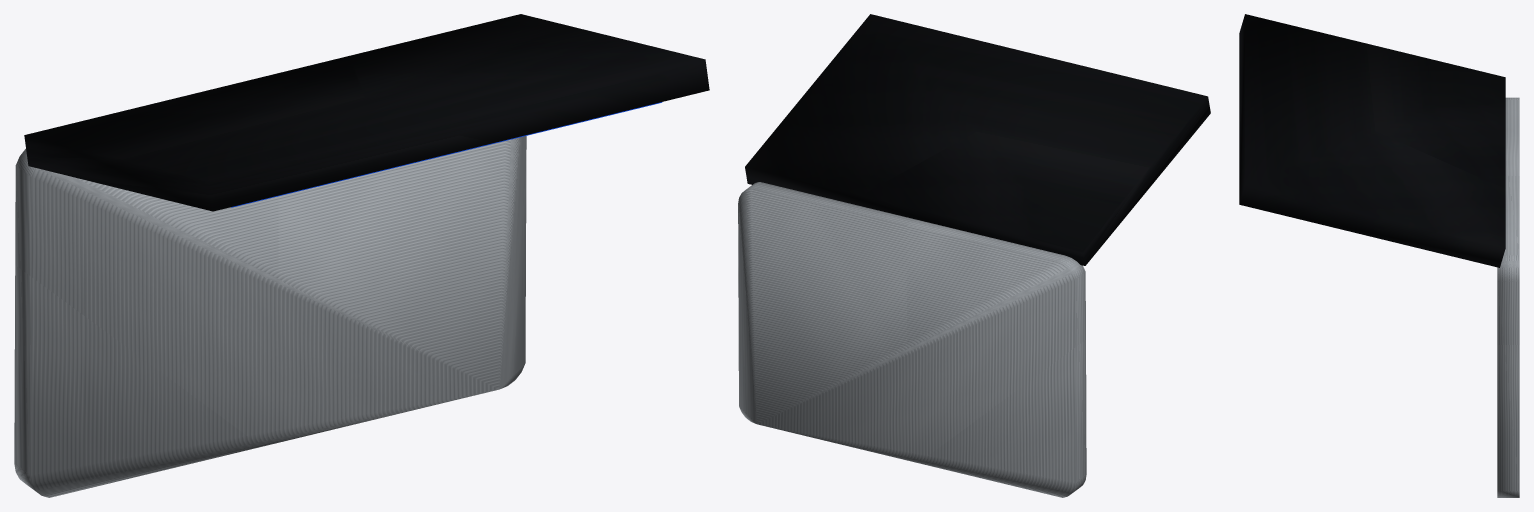
Rendered from LAPTOP_OPEN_001.glb.
The picture shows the model from 3 angles, left to right: view 1: azimuth 30°, elevation 25°; view 2: azimuth 150°, elevation 25°; view 3: azimuth 270°, elevation 25°; orthographic projection. The views are drawn at different scales.
Visible parts, largest first — view 1: laptop_base_000, laptop_screen_001; view 2: laptop_base_000, laptop_screen_001; view 3: laptop_screen_001, laptop_base_000.
Part boxes in pixels (<box>): laptop_base_000: <box>14,136,526,497</box>; laptop_screen_001: <box>24,14,709,211</box>; laptop_base_000: <box>738,182,1086,497</box>; laptop_screen_001: <box>745,14,1210,265</box>; laptop_screen_001: <box>1239,14,1505,267</box>; laptop_base_000: <box>1497,97,1519,497</box>.
Size of the model in its own units: 0.45 by 0.3933 by 0.3119.
Materials: 3 (3 with a texture image).
